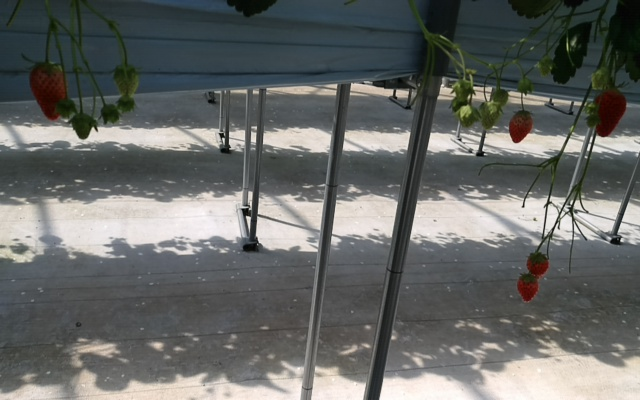GreenStrawberry: (111, 63, 141, 101), (478, 100, 503, 132), (450, 79, 475, 106), (455, 104, 480, 130), (72, 113, 95, 141)
MatureStrawberry: (26, 61, 71, 124), (588, 87, 629, 139), (508, 109, 535, 145), (516, 275, 540, 305), (526, 251, 550, 280)
